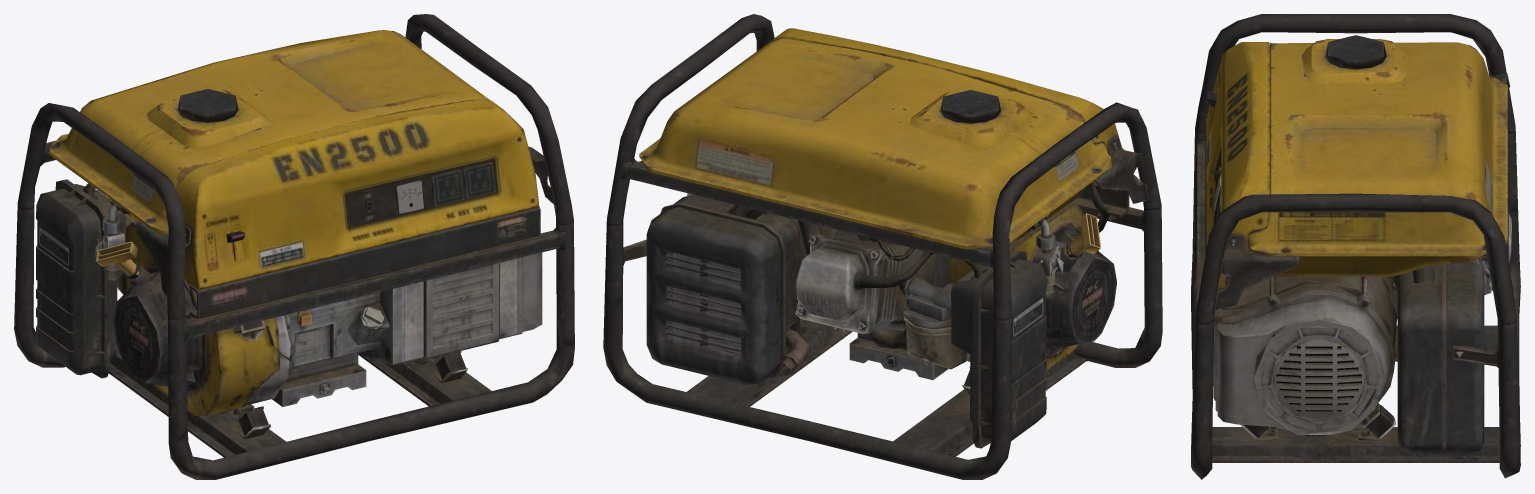
Rendered from portable_generator.slim.glb.
3 renders of one model, left to right at view 1: azimuth 30°, elevation 25°; view 2: azimuth 150°, elevation 25°; view 3: azimuth 270°, elevation 25°, orthographic.
Size of the model in its own units: 0.8183 by 0.5769 by 0.564.
2 materials, 2 textured.
